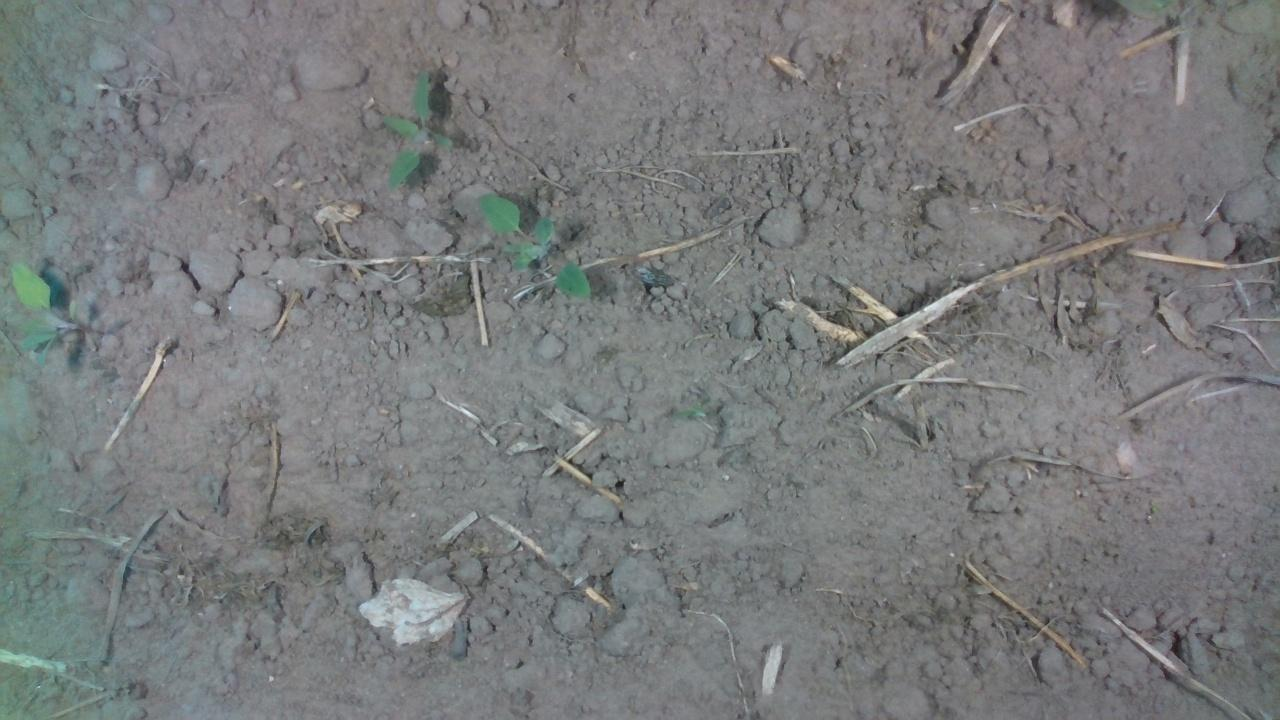weed: (376, 64, 454, 194)
